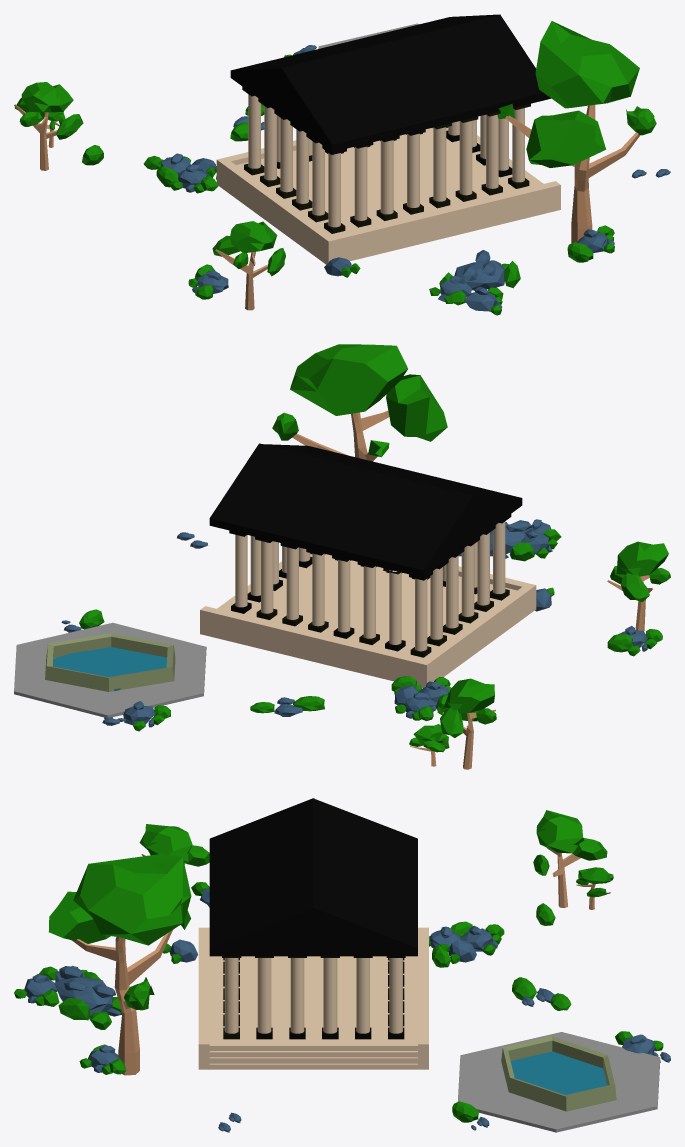
File: Temple obsidienne.fbx
3 renders of one model, top to bottom at view 1: azimuth 30°, elevation 25°; view 2: azimuth 150°, elevation 25°; view 3: azimuth 270°, elevation 25°, orthographic. The views are drawn at different scales.
Parts seen in each view (by area): view 1: Cube.063, Icokugel.011, Icokugel.012, Icokugel.028, Icokugel.010, Icokugel.005, Zylinder, Icokugel.024, Icokugel.007, Icokugel.023, Icokugel, Icokugel.003 (+1 smaller); view 2: Cube.063, Cylindre.003, Icokugel.011, Cylindre.004, Icokugel.012, Icokugel.010, Icokugel.005, Icokugel.028, Cylindre.006, Zylinder, Cylindre.005, Icokugel.009 (+3 smaller); view 3: Cube.063, Cylindre.003, Icokugel.011, Icokugel.028, Cylindre.004, Zylinder, Icokugel.005, Icokugel.010, Icokugel.012, Cylindre.005, Cylindre.006, Icokugel.003 (+6 smaller).
Boxes of the visible parts, x1,y1,x2,y2 form: Cube.063: [216, 14, 560, 264]; Icokugel.011: [535, 21, 639, 108]; Icokugel.012: [526, 110, 605, 167]; Icokugel.028: [429, 250, 520, 315]; Icokugel.010: [212, 221, 285, 310]; Icokugel.005: [14, 82, 83, 170]; Zylinder: [505, 105, 639, 243]; Icokugel.024: [170, 164, 218, 193]; Icokugel.007: [188, 270, 228, 299]; Icokugel.023: [577, 225, 614, 253]; Icokugel: [626, 106, 656, 135]; Icokugel.003: [143, 153, 190, 173]; Cube.063: [200, 443, 536, 688]; Cylindre.003: [14, 622, 206, 718]; Icokugel.011: [290, 344, 407, 415]; Cylindre.004: [45, 633, 175, 691]; Icokugel.012: [386, 374, 447, 441]; Icokugel.010: [607, 541, 670, 630]; Icokugel.005: [440, 678, 496, 769]; Icokugel.028: [458, 519, 561, 561]; Cylindre.006: [53, 650, 124, 686]; Zylinder: [292, 410, 389, 461]; Cylindre.005: [89, 647, 166, 690]; Icokugel.009: [123, 701, 170, 731]; Cube.063: [198, 798, 428, 1069]; Cylindre.003: [457, 1032, 660, 1132]; Icokugel.011: [73, 854, 191, 945]; Icokugel.028: [14, 965, 122, 1029]; Cylindre.004: [501, 1036, 616, 1111]; Zylinder: [72, 930, 172, 1075]; Icokugel.005: [533, 810, 607, 907]; Icokugel.010: [139, 824, 209, 866]; Icokugel.012: [48, 891, 110, 943]; Cylindre.005: [510, 1051, 604, 1083]; Cylindre.006: [532, 1068, 607, 1095]; Icokugel.003: [460, 924, 504, 955].
Size of the model in its own units: 1267 by 513 by 1425.
